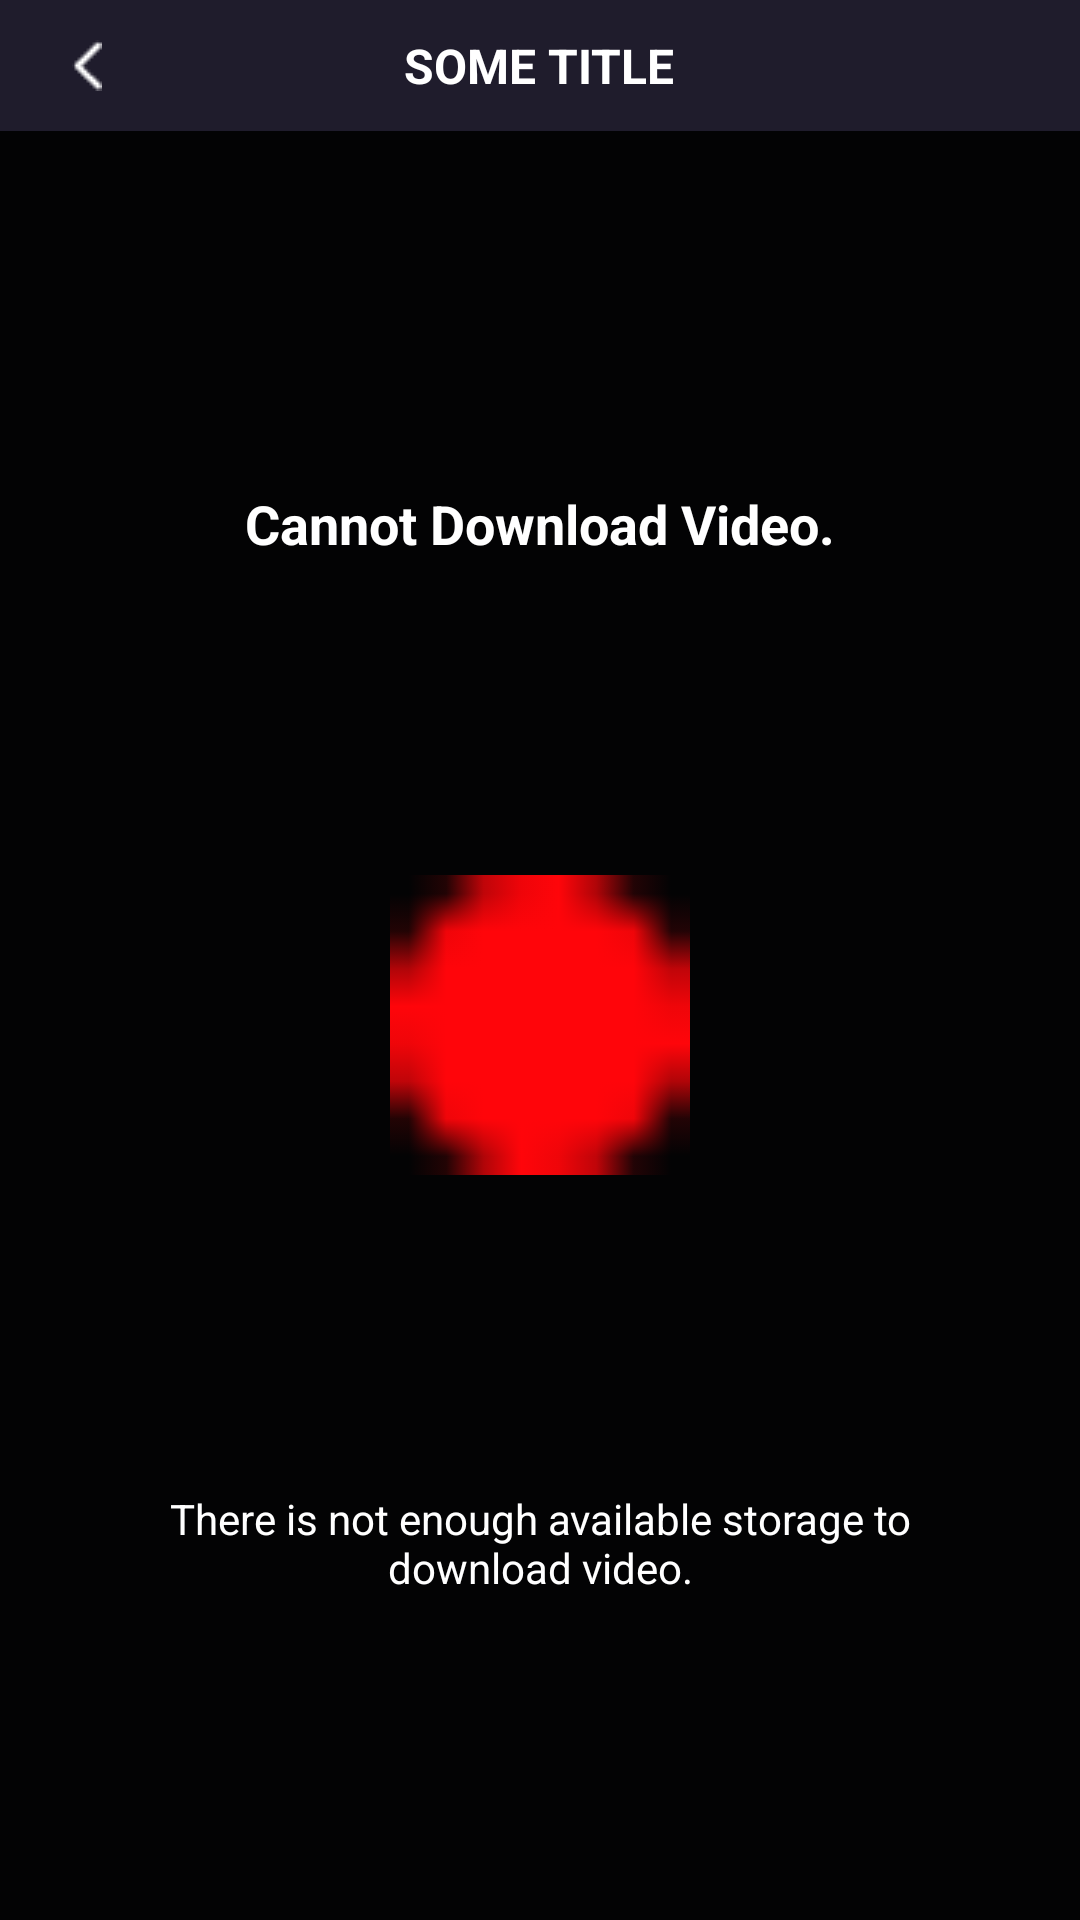

Named icons in this screenshot (1080×1920) and their centers, (x=x, y=y):
back: (x=88, y=66)
ball: (x=540, y=1025)
